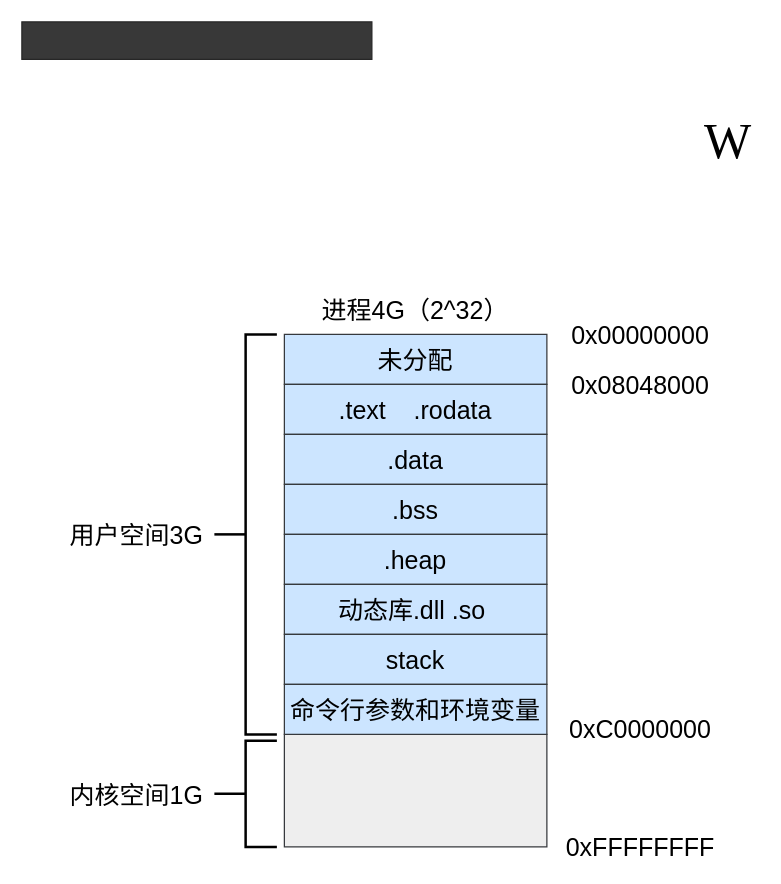
This 781x884 diagram has some shape labels left out. The centre of each missing label's shape, as x and y in pixels:
C/C++: point 196,40
ZONE_DMA ZONE_NORMAL ZONE_HIGHMEN: point 415,790
